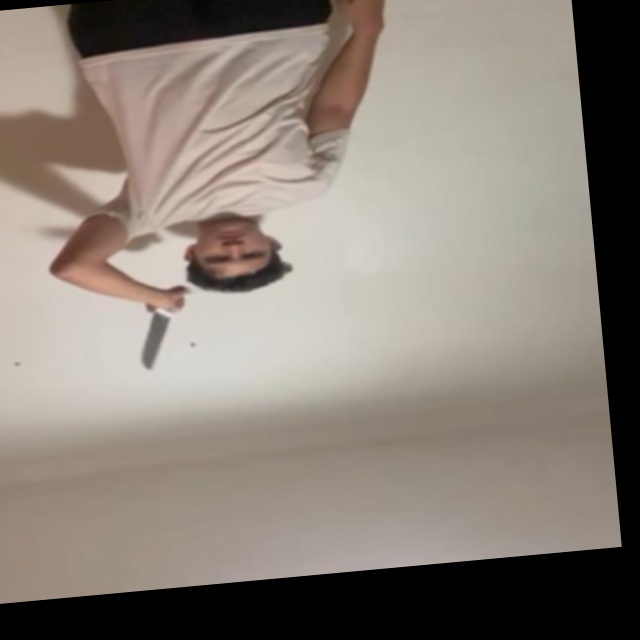Sharp-Object: (135, 317, 173, 373)
